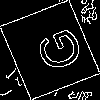G: (25, 25, 86, 78)
